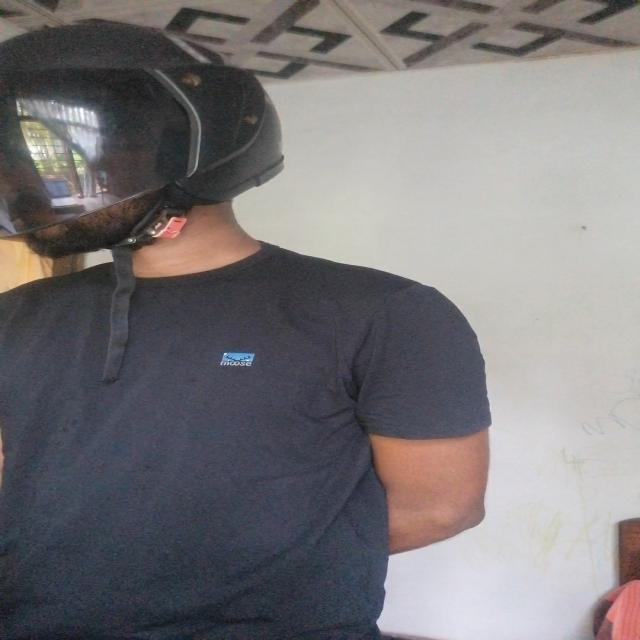Helmet_Wearer: (0, 20, 301, 308)
Person: (0, 17, 498, 640)
